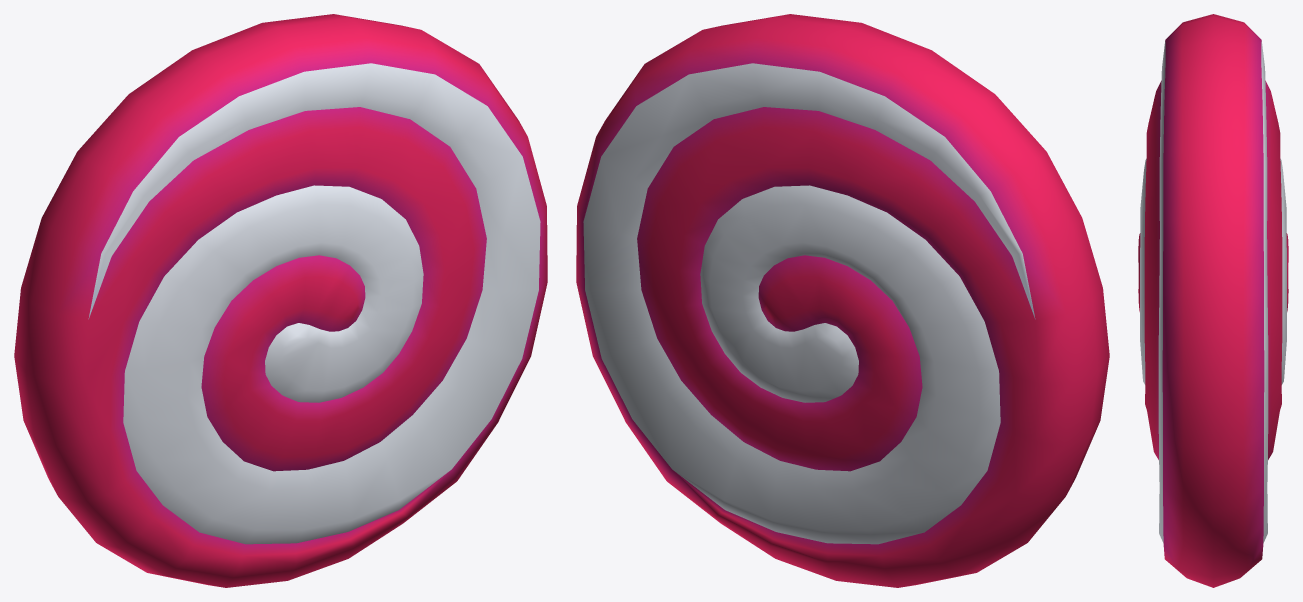
Rendered from lollipop_009.glb.
3 renders of one model, left to right at view 1: azimuth 30°, elevation 25°; view 2: azimuth 150°, elevation 25°; view 3: azimuth 270°, elevation 25°, orthographic. The views are drawn at different scales.
Visible parts, largest first — view 1: lollipop_009; view 2: lollipop_009; view 3: lollipop_009.
Part boxes in pixels (box(x1,y1,x2,y2)): lollipop_009: box(14, 14, 547, 587); lollipop_009: box(576, 14, 1109, 587); lollipop_009: box(1138, 14, 1288, 587).
Bounding box in the file's own units: 4.25 × 4.35 × 1.14.
Materials: 1 (1 with a texture image).
